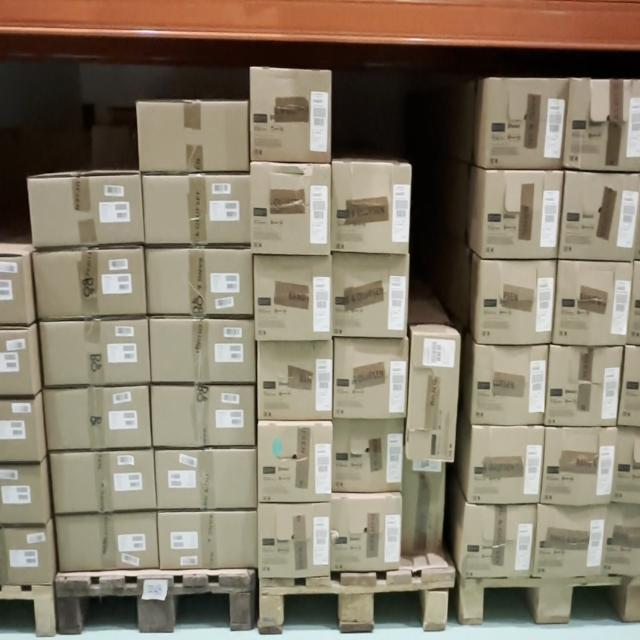box: (251, 68, 330, 160), (32, 178, 142, 244), (146, 177, 251, 245), (140, 105, 248, 171), (46, 319, 148, 386), (253, 167, 329, 256), (334, 163, 408, 254), (489, 77, 562, 168), (40, 255, 145, 315), (149, 251, 250, 313), (565, 174, 640, 257), (152, 321, 254, 382), (483, 174, 557, 258), (256, 258, 331, 340), (154, 386, 254, 446), (333, 255, 406, 337), (570, 81, 640, 166), (48, 390, 150, 447), (54, 453, 152, 512), (480, 262, 550, 344), (554, 263, 627, 341), (259, 342, 332, 418), (335, 340, 407, 416), (158, 452, 257, 507), (472, 347, 544, 422), (159, 514, 257, 568), (260, 427, 330, 500), (550, 349, 617, 425), (413, 335, 453, 460), (260, 504, 329, 576), (472, 426, 538, 501), (332, 498, 401, 569), (544, 428, 610, 502), (59, 520, 156, 570), (464, 507, 532, 578), (334, 420, 401, 490), (538, 506, 600, 576), (405, 459, 440, 553), (0, 529, 47, 584), (0, 466, 44, 524), (606, 507, 640, 575), (1, 399, 36, 462), (1, 327, 28, 395), (617, 431, 640, 501), (1, 257, 24, 325), (627, 346, 640, 426)
